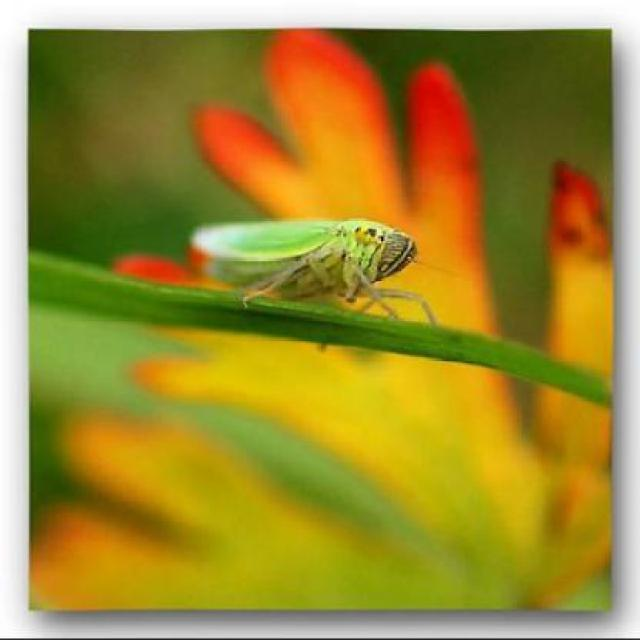green-leafhopper: (191, 212, 435, 319)
